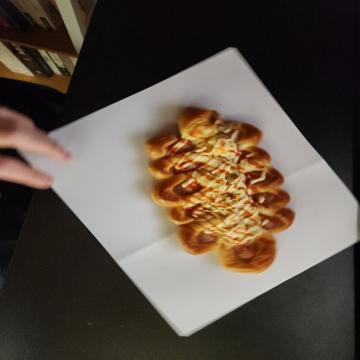pizza_bread: (108, 65, 275, 212)
